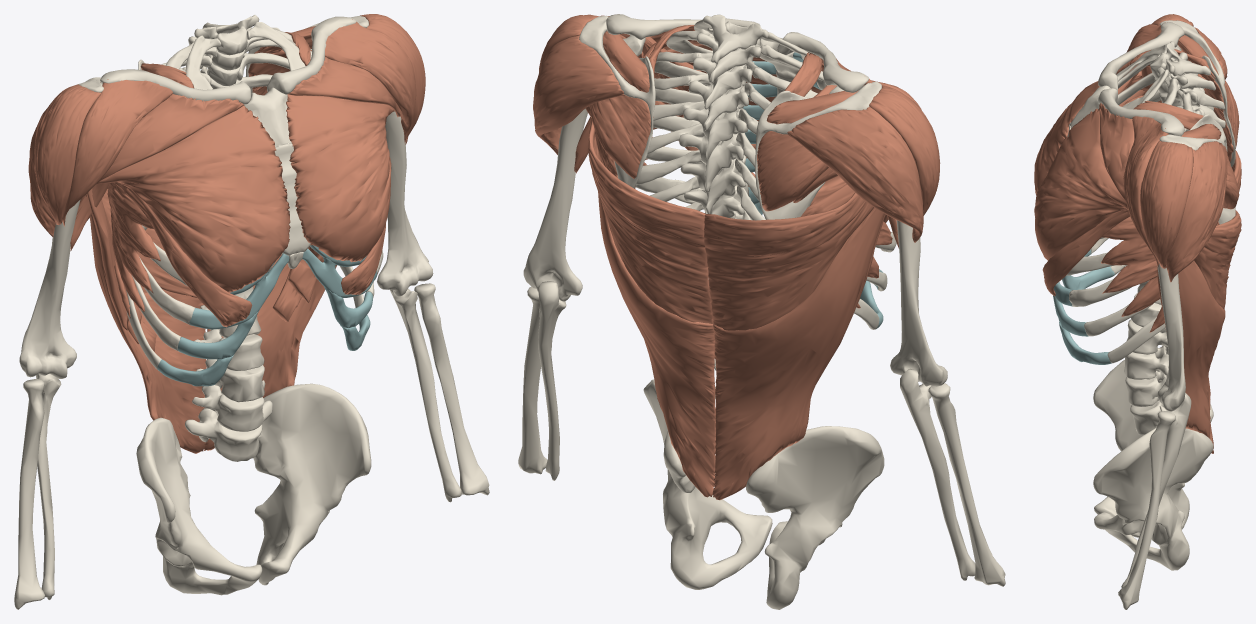
File: motion-pectoral.glb
The picture shows the model from 3 angles, left to right: view 1: azimuth 30°, elevation 25°; view 2: azimuth 150°, elevation 25°; view 3: azimuth 270°, elevation 25°; orthographic projection. The views are drawn at different scales.
Parts seen in each view (by area): view 1: Sternocostal head of pectoralis major muscle.r.001, Hip bone.l.001, Sternocostal head of pectoralis major muscle.l.001, Latissimus dorsi muscle.r.001, Hip bone.r.001, Clavicular part of deltoid muscle.r.001, Latissimus dorsi muscle.l.001, Humerus.r.001, Acromial part of deltoid muscle.r.001, Serratus anterior muscle.r.001, Humerus.l.001, Clavicular part of deltoid muscle.l.001 (+31 smaller); view 2: Latissimus dorsi muscle.r.001, Latissimus dorsi muscle.l.001, Hip bone.r.001, Scapular spinal part of deltoid muscle.r.001, Hip bone.l.001, Scapular spinal part of deltoid muscle.l.001, Humerus.l.001, Humerus.r.001, Infraspinatus muscle.r.001, Ulna.r.001, Acromial part of deltoid muscle.r.001, Infraspinatus muscle.l.001 (+27 smaller); view 3: Hip bone.l.001, Sternocostal head of pectoralis major muscle.l.001, Latissimus dorsi muscle.l.001, Acromial part of deltoid muscle.l.001, Scapular spinal part of deltoid muscle.l.001, Serratus anterior muscle.l.001, Hip bone.r.001, Humerus.l.001, Radius.l.001, Clavicular part of deltoid muscle.l.001, Clavicular head of pectoralis major muscle.l.001, (Abdominal part of pectoralis major muscle).l.001 (+35 smaller).
Part boxes in pixels (x1,y1,x2,y2): Sternocostal head of pectoralis major muscle.r.001: [97, 105, 290, 292]; Hip bone.l.001: [253, 383, 371, 585]; Sternocostal head of pectoralis major muscle.l.001: [286, 94, 394, 262]; Latissimus dorsi muscle.r.001: [85, 188, 206, 453]; Hip bone.r.001: [136, 417, 262, 595]; Clavicular part of deltoid muscle.r.001: [62, 79, 172, 226]; Latissimus dorsi muscle.l.001: [204, 246, 336, 450]; Humerus.r.001: [19, 199, 80, 378]; Acromial part of deltoid muscle.r.001: [34, 84, 100, 224]; Serratus anterior muscle.r.001: [107, 63, 193, 318]; Humerus.l.001: [377, 111, 433, 296]; Clavicular part of deltoid muscle.l.001: [325, 19, 416, 142]; Latissimus dorsi muscle.r.001: [704, 192, 885, 500]; Latissimus dorsi muscle.l.001: [588, 117, 715, 497]; Hip bone.r.001: [746, 426, 884, 609]; Scapular spinal part of deltoid muscle.r.001: [787, 106, 923, 242]; Hip bone.l.001: [643, 379, 772, 589]; Scapular spinal part of deltoid muscle.l.001: [533, 35, 624, 154]; Humerus.l.001: [523, 108, 587, 301]; Humerus.r.001: [890, 220, 947, 386]; Infraspinatus muscle.r.001: [757, 131, 828, 211]; Ulna.r.001: [900, 369, 975, 580]; Acromial part of deltoid muscle.r.001: [869, 85, 940, 215]; Infraspinatus muscle.l.001: [590, 95, 650, 178]; Hip bone.l.001: [1093, 427, 1213, 570]; Sternocostal head of pectoralis major muscle.l.001: [1034, 108, 1128, 260]; Latissimus dorsi muscle.l.001: [1157, 210, 1241, 453]; Acromial part of deltoid muscle.l.001: [1140, 140, 1193, 268]; Scapular spinal part of deltoid muscle.l.001: [1166, 141, 1227, 282]; Serratus anterior muscle.l.001: [1101, 100, 1203, 332]; Hip bone.r.001: [1093, 358, 1213, 537]; Humerus.l.001: [1157, 263, 1185, 411]; Radius.l.001: [1118, 410, 1175, 609]; Clavicular part of deltoid muscle.l.001: [1123, 116, 1168, 266]; Clavicular head of pectoralis major muscle.l.001: [1099, 103, 1134, 201]; (Abdominal part of pectoralis major muscle).l.001: [1042, 210, 1129, 296].
Size of the model in its own units: 0.5774 by 0.6559 by 0.2464.
